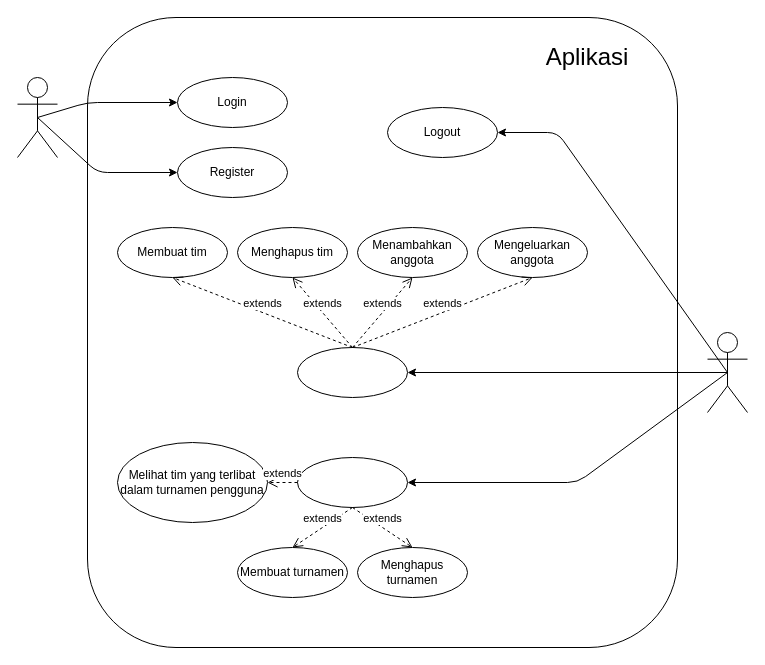
Some shapes in this 765 by 665 pixel diagram are drawn without their labels. Each missing label, with the centre of its shape:
"Guest" goes at (37,117).
"Mengurus tim" goes at (352,372).
"Mengurus turnamen" goes at (352,482).
"User" goes at (727,372).
